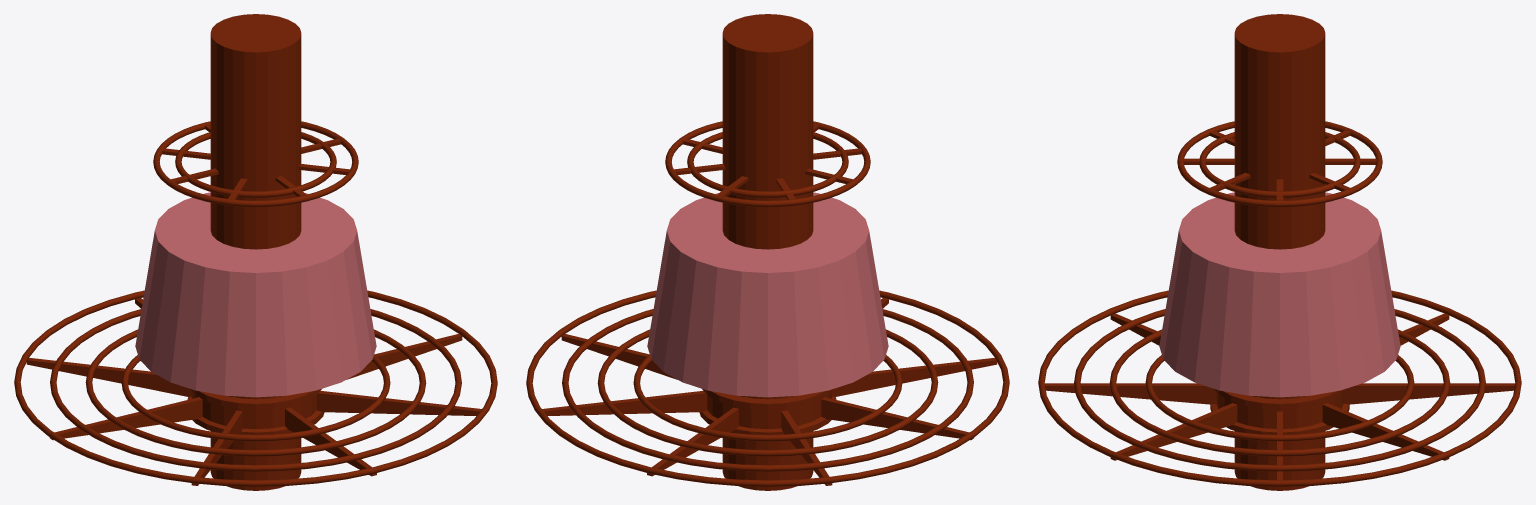
Rendered from link16_atn.obj.
3 renders of one model, left to right at view 1: azimuth 30°, elevation 25°; view 2: azimuth 150°, elevation 25°; view 3: azimuth 270°, elevation 25°, orthographic.
Visible parts, largest first — view 1: 円柱, ベジエ円.004_ベジエ円.008, 立方体_立方体.003; view 2: 円柱, ベジエ円.004_ベジエ円.008, 立方体_立方体.003; view 3: 円柱, ベジエ円.004_ベジエ円.008, 立方体_立方体.003.
Part boxes in pixels (x1,y1,x2,y2): 円柱: (135,14,376,490); ベジエ円.004_ベジエ円.008: (14,121,497,486); 立方体_立方体.003: (26,124,481,485); 円柱: (647,14,888,490); ベジエ円.004_ベジエ円.008: (526,121,1009,486); 立方体_立方体.003: (542,124,997,485); 円柱: (1159,14,1400,490); ベジエ円.004_ベジエ円.008: (1038,121,1521,486); 立方体_立方体.003: (1045,130,1514,488).
Bounding box in the file's own units: 2 × 2 × 2.
